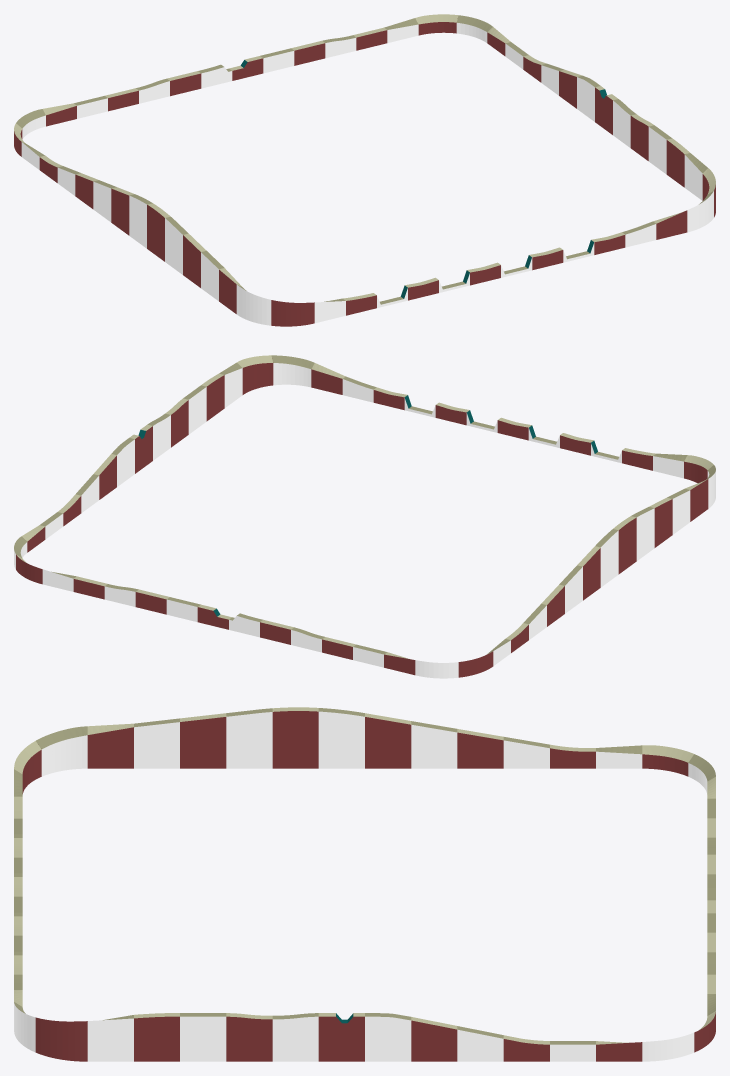
Rendered from stepping-stones.glb.
3 renders of one model, top to bottom at view 1: azimuth 30°, elevation 25°; view 2: azimuth 150°, elevation 25°; view 3: azimuth 270°, elevation 25°, orthographic. The views are drawn at different scales.
Visible parts, largest first — view 1: stepping-stones; view 2: stepping-stones; view 3: stepping-stones.
Part boxes in pixels (left/top/right/bottom): stepping-stones: left=14, top=14, right=715, bottom=326; stepping-stones: left=14, top=355, right=715, bottom=678; stepping-stones: left=14, top=707, right=715, bottom=1061.
Size of the model in its own units: 30.38 by 2.76 by 30.38.
